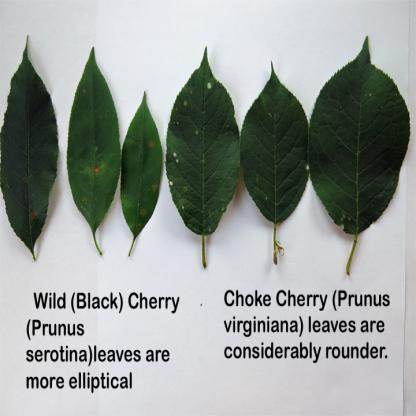cherry leaf: (309, 26, 413, 247), (162, 38, 240, 288), (1, 38, 59, 276), (240, 41, 309, 226)
